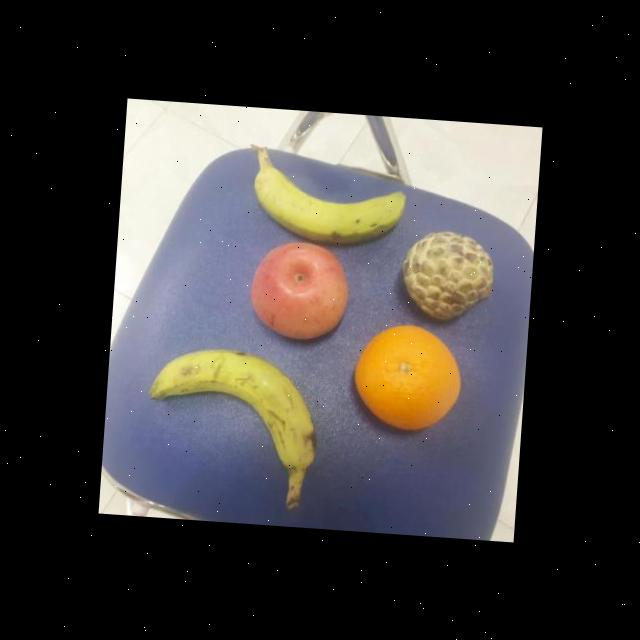Sakya fruit: (397, 228, 496, 324)
apple: (246, 237, 352, 342)
banana: (141, 343, 323, 511), (242, 142, 408, 246)
orange: (351, 321, 465, 434)
